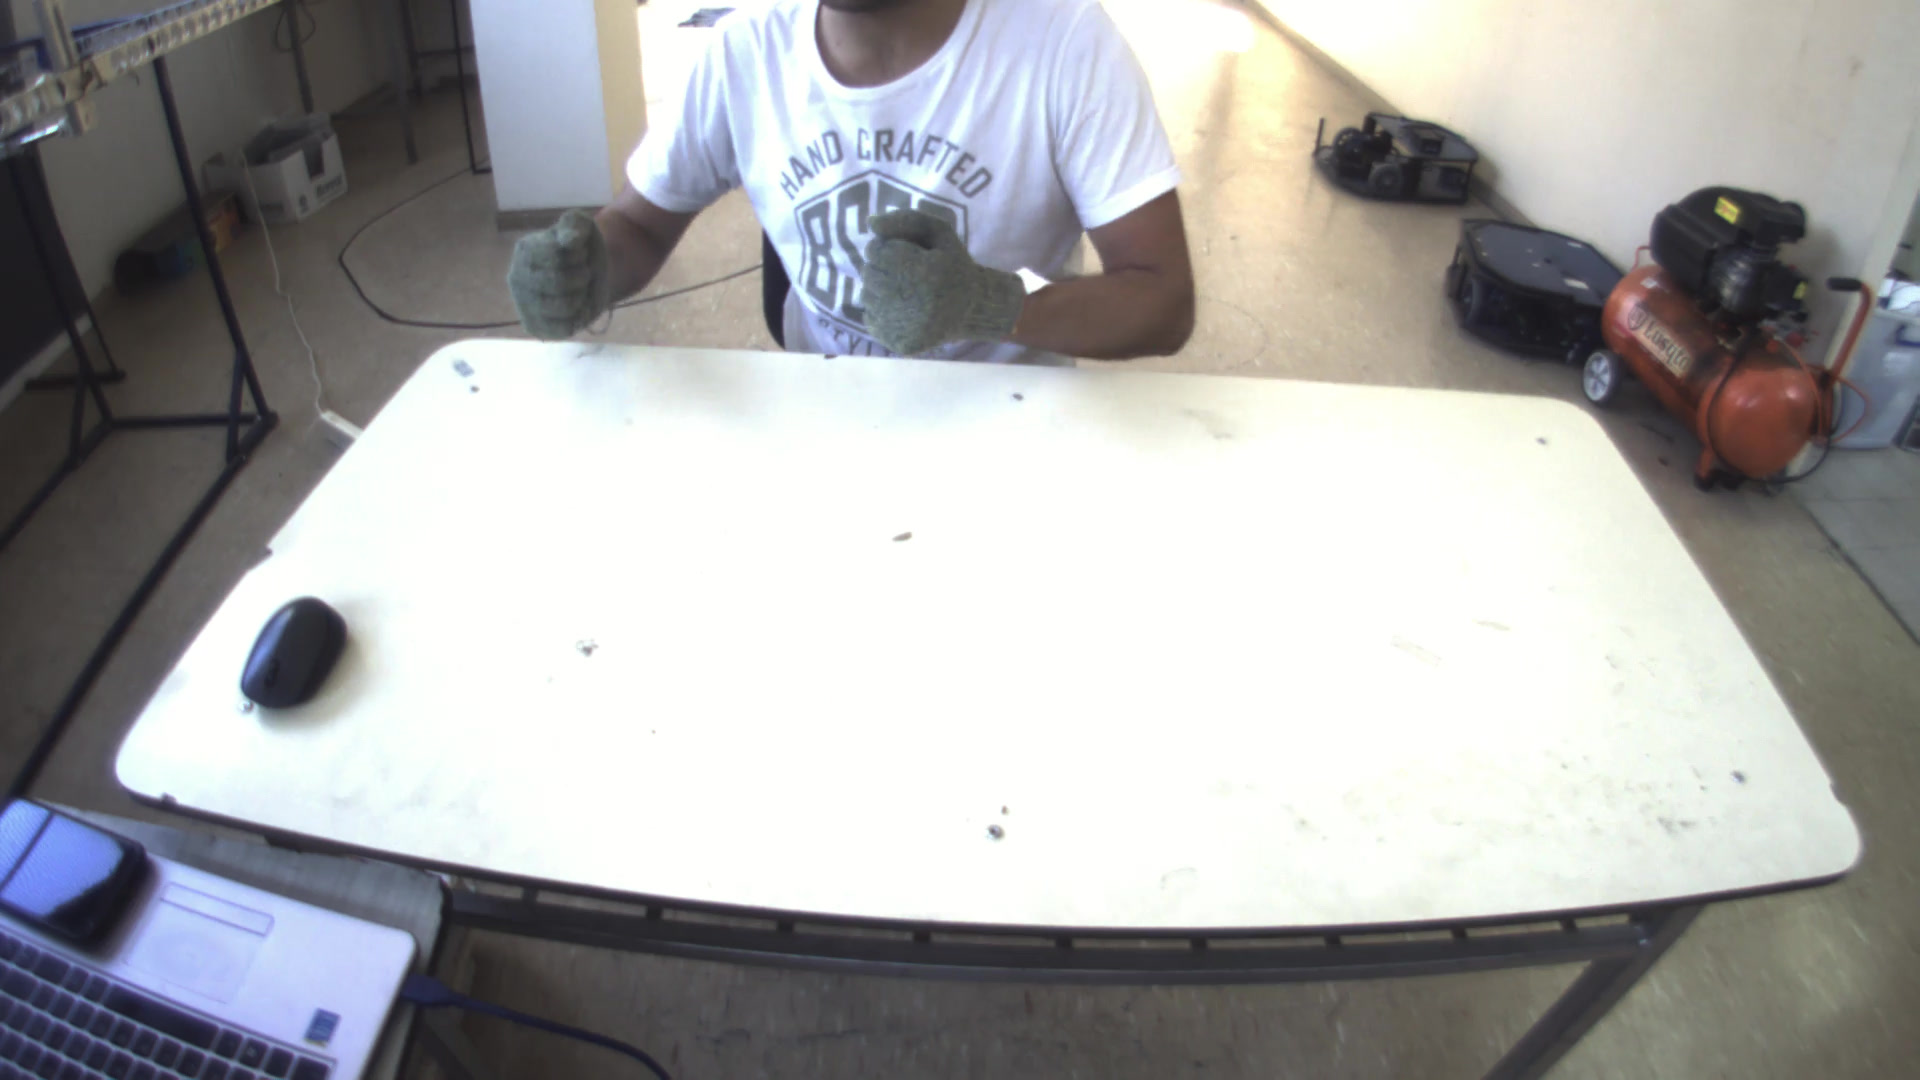hand: (852, 200, 1033, 352), (489, 204, 605, 339)
